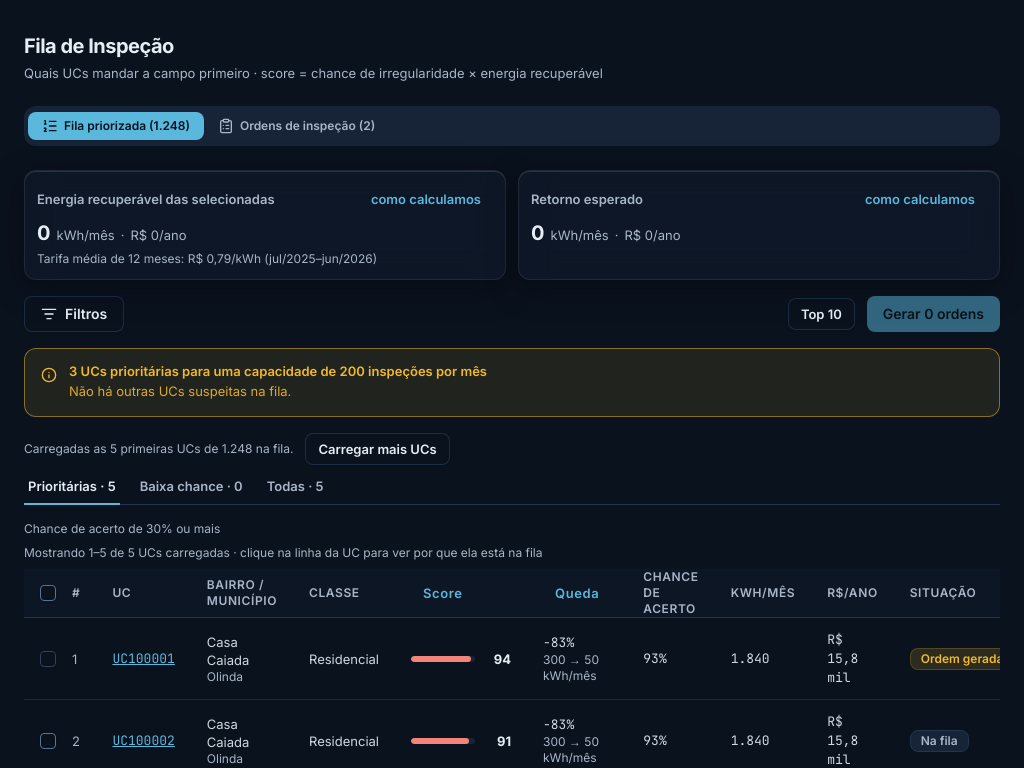
Fila de Inspeção › informa qual UC falhou sem esconder as que foram geradas
The image size is (1024, 768).
What coordinates should you click on to do the following:
click the checkbox named "Selecionar UC100002"
I would click on:
 (48, 740)
Its box is 40,732 -> 56,748.
(page scrolled)
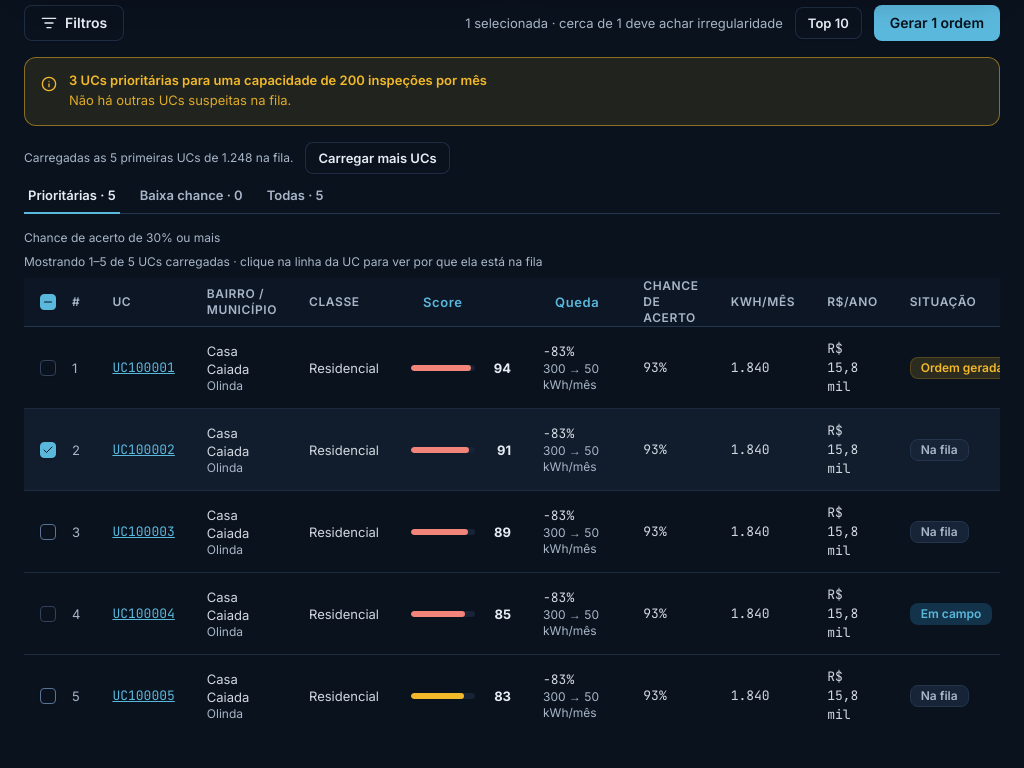
What coordinates should you click on to do the following:
click the checkbox named "Selecionar UC100003"
I would click on:
 (48, 532)
Its box is 40,524 -> 56,540.
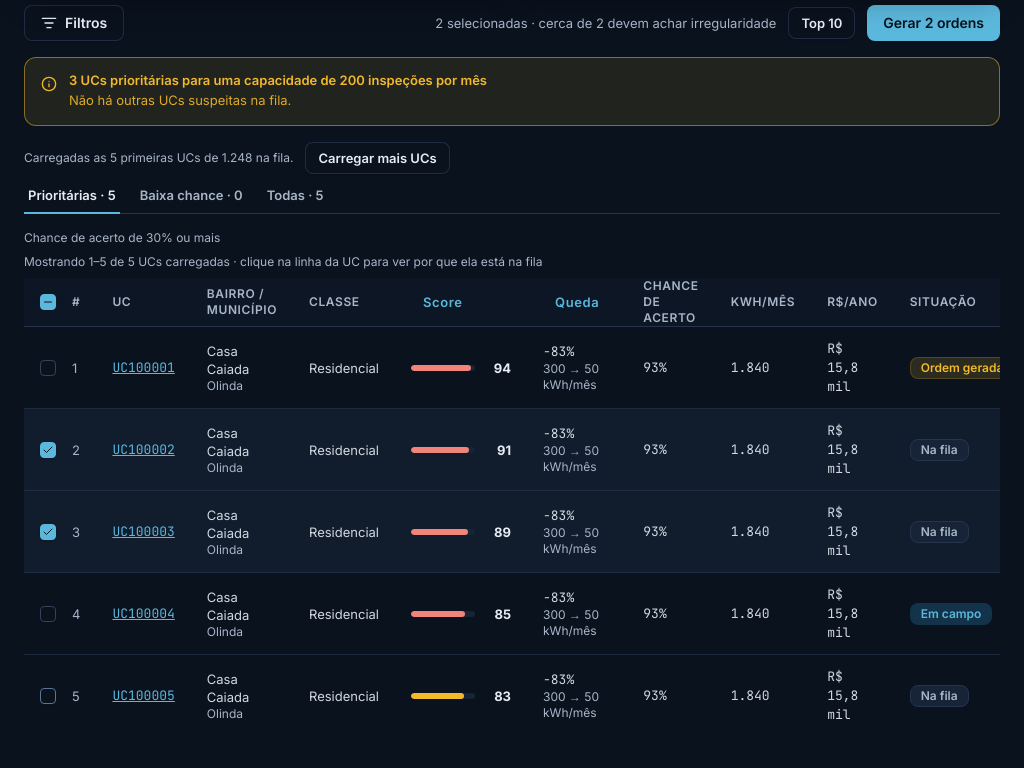
What coordinates should you click on to do the following:
click the button "Gerar 2 ordens"
I would click on:
 (934, 23)
Its box is 867,5 -> 1000,41.
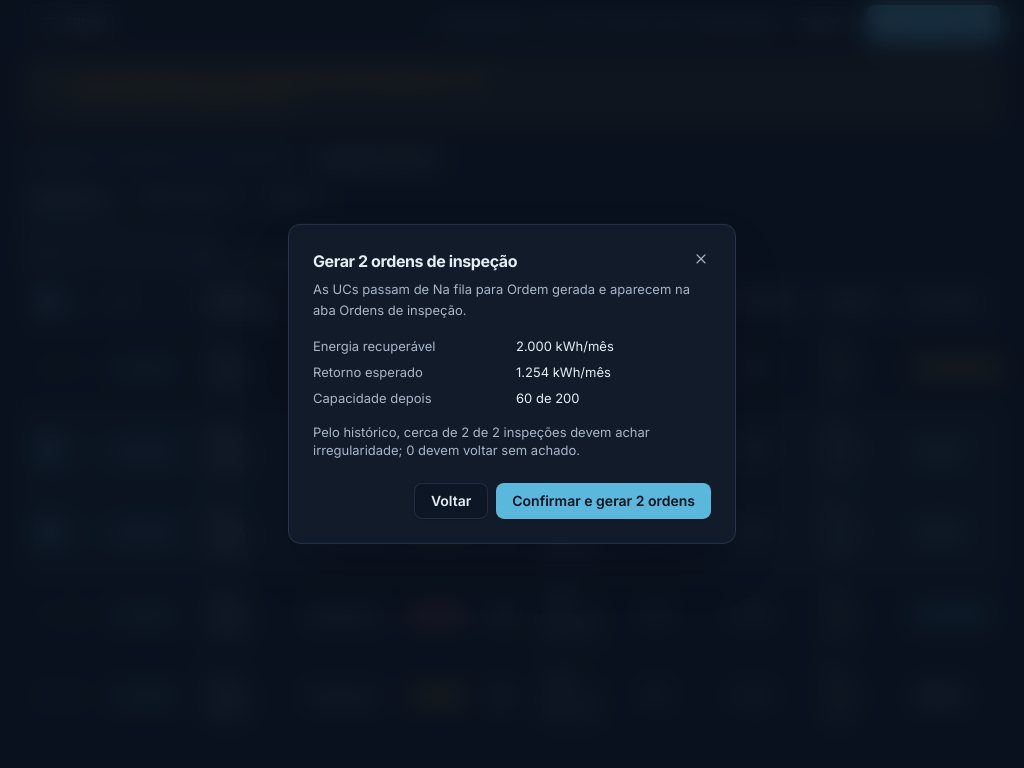
What coordinates should you click on to do the following:
click the button "Confirmar e gerar 2 ordens"
I would click on:
 (604, 501)
Its box is 496,483 -> 711,519.
(page scrolled)
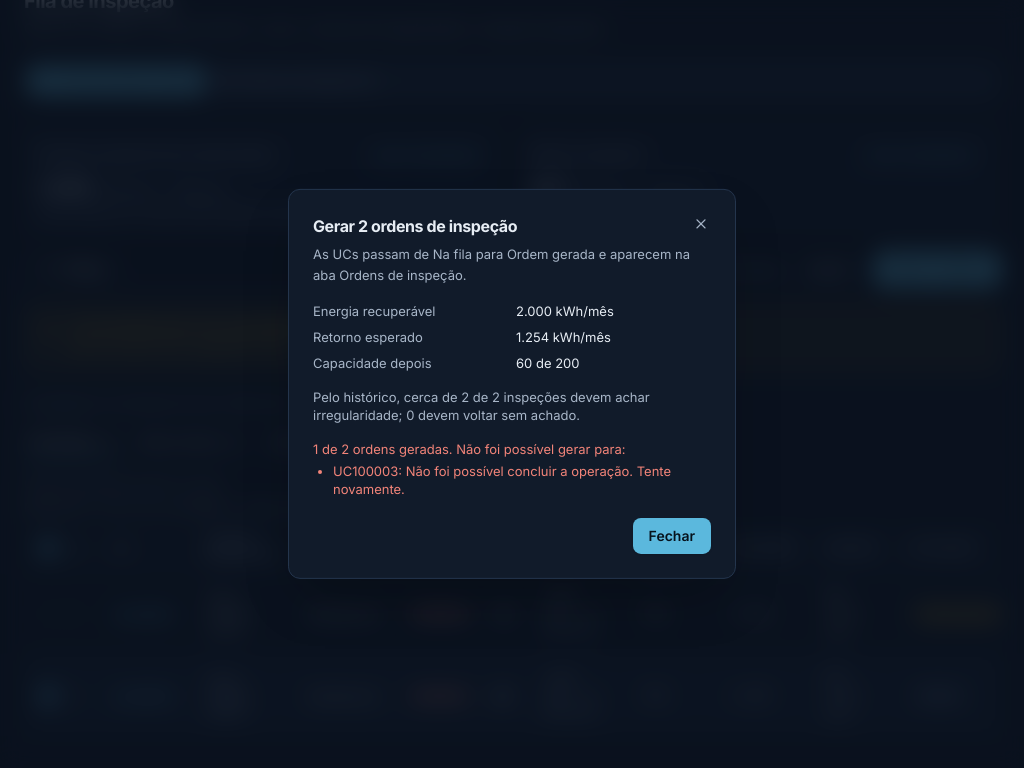
expect the dialog shows "Gerar 2 ordens de inspeção": met, box 313,216 -> 517,236
expect the message shows "UC100003": met, box 333,463 -> 398,479
expect the message shows "1 de 2 ordens": met, box 313,440 -> 711,498
